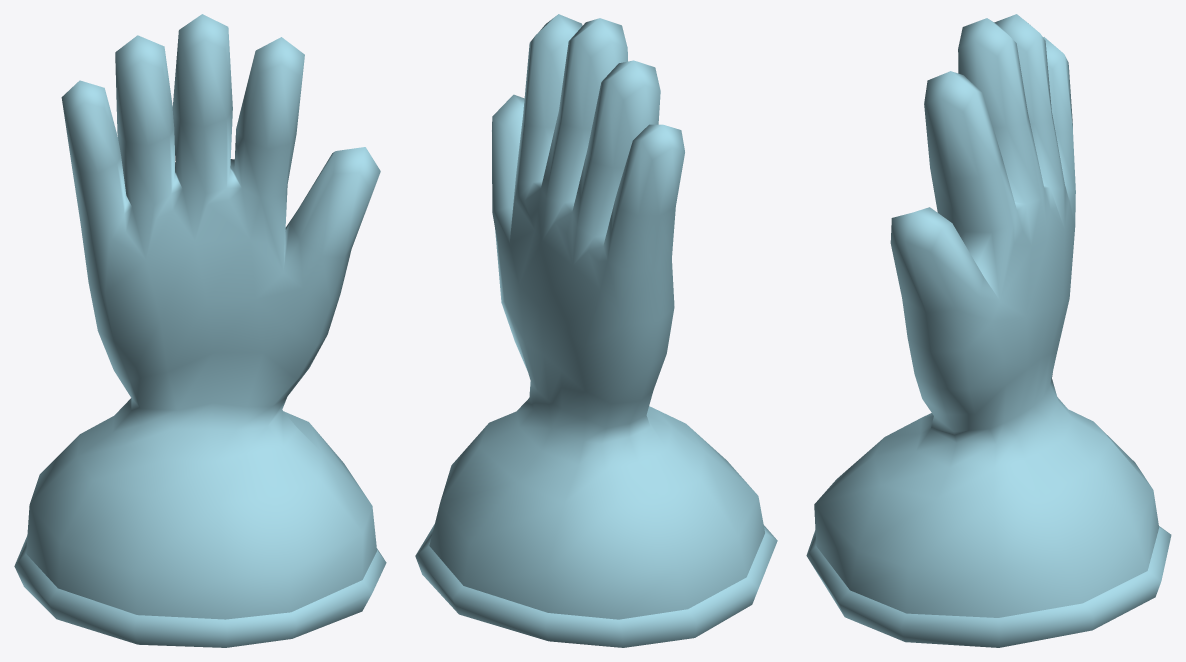
File: Glove.fbx
3 renders of one model, left to right at view 1: azimuth 30°, elevation 25°; view 2: azimuth 150°, elevation 25°; view 3: azimuth 270°, elevation 25°, orthographic. The views are drawn at different scales.
Parts seen in each view (by area): view 1: Glove; view 2: Glove; view 3: Glove.
Boxes of the visible parts, bbox=[...] form: Glove: bbox=[14, 14, 386, 647]; Glove: bbox=[415, 14, 777, 647]; Glove: bbox=[806, 14, 1171, 647].
Bounding box in the file's own units: 0.6725 × 1.15 × 0.6791.
